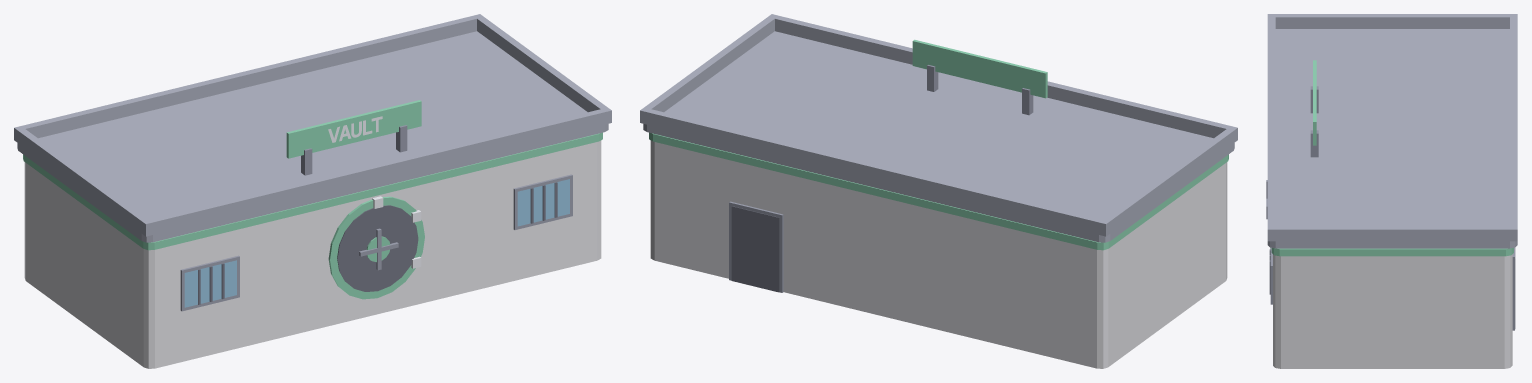
The model's file is vault-2x1-t3-tone-a.glb.
3 renders of one model, left to right at view 1: azimuth 30°, elevation 25°; view 2: azimuth 150°, elevation 25°; view 3: azimuth 270°, elevation 25°, orthographic. The views are drawn at different scales.
Visible parts, largest first — view 1: vault-2x1-t3-tone-a; view 2: vault-2x1-t3-tone-a; view 3: vault-2x1-t3-tone-a.
Part boxes in pixels (left/top/right/bottom): vault-2x1-t3-tone-a: left=14, top=14, right=611, bottom=368; vault-2x1-t3-tone-a: left=640, top=14, right=1237, bottom=368; vault-2x1-t3-tone-a: left=1266, top=14, right=1517, bottom=368.
Bounding box in the file's own units: 1.96 × 0.73 × 0.966.
1 material, 1 textured.
